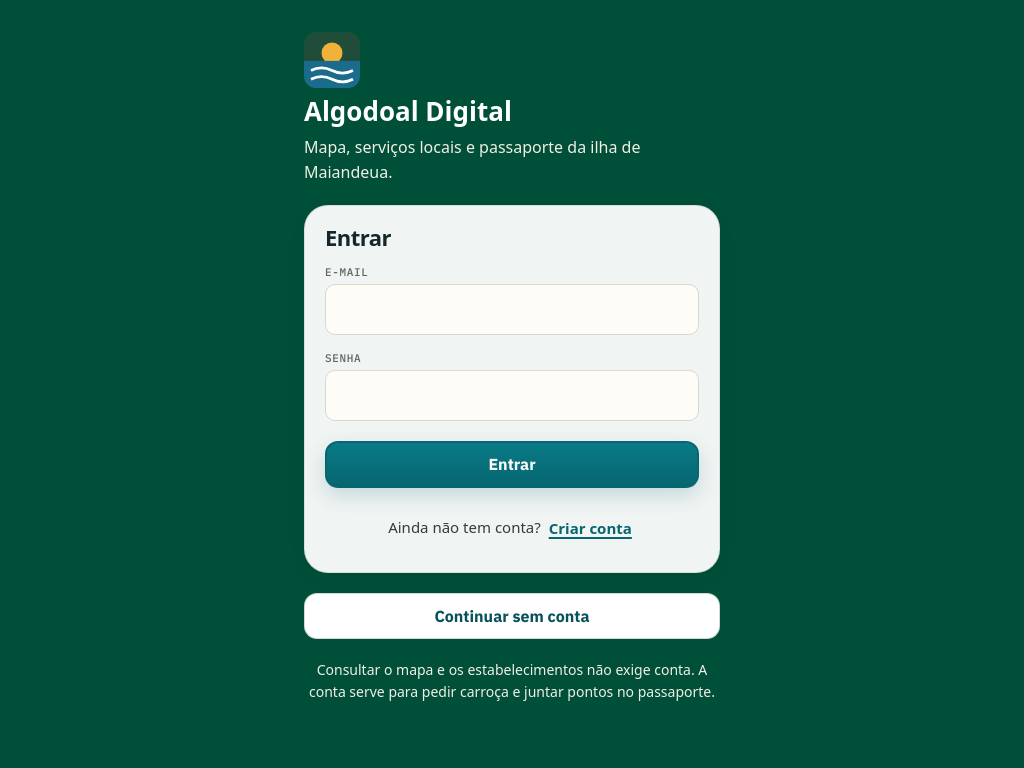
Test: rotas protegidas › depois de entrar, volta para a rota que a pessoa queria
Check: the heading "Entrar" is shown, box [325,222,391,252]
In the field labelled "E-mail": (512,309) [325,284,699,335], type "ana.turista@example.com"
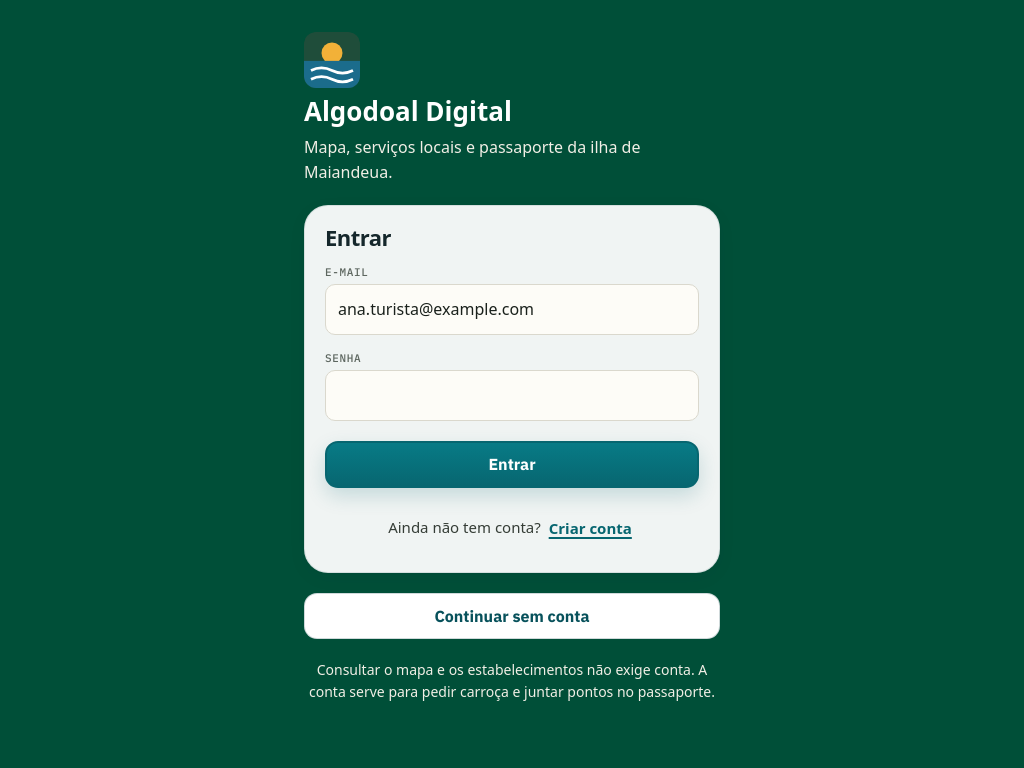
In the password field labelled "Senha": (512,396) [325,370,699,421], type "senha-de-teste"
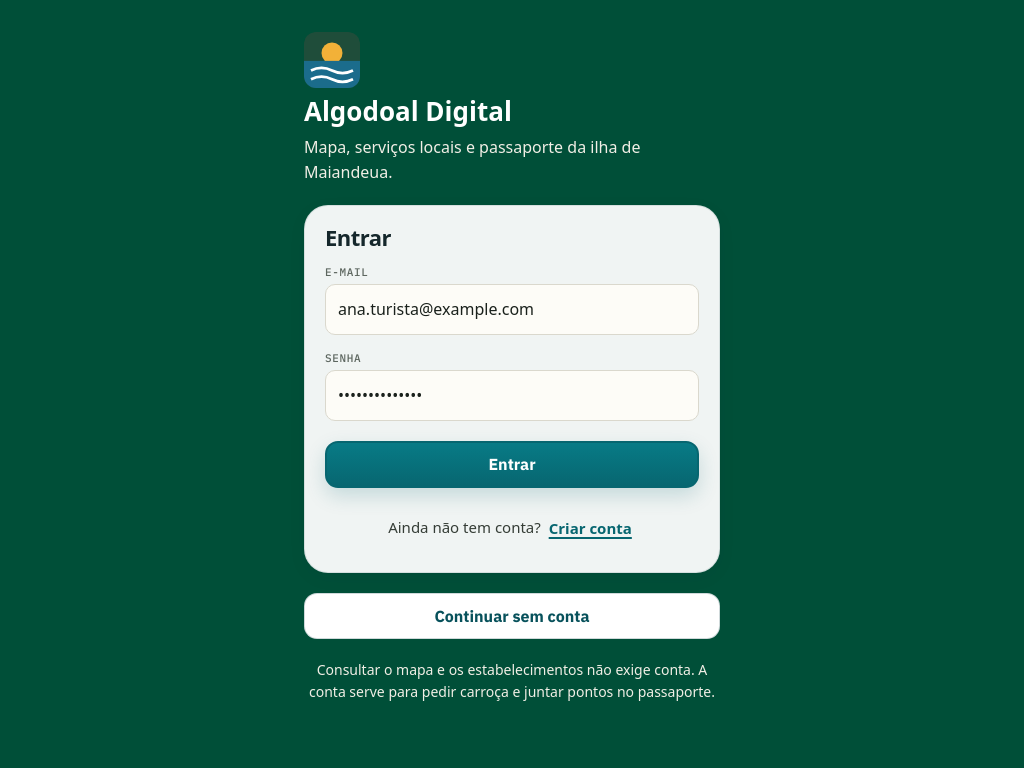
Click the button "Entrar": (512,465) [325,441,699,488]
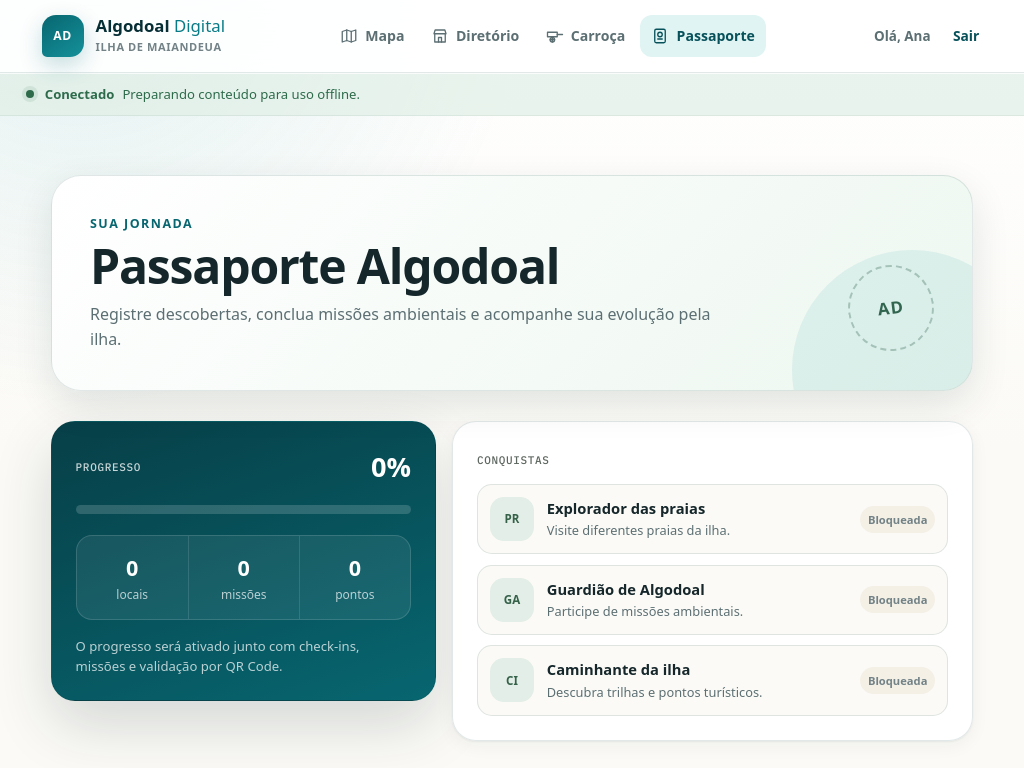
Check: the heading "Passaporte Algodoal" is shown, box [90,232,559,298]
